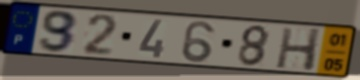2: (83, 13, 120, 58)
4: (137, 18, 167, 59)
6: (179, 19, 217, 65)
8: (236, 23, 272, 68)
9: (37, 9, 81, 55)
H: (273, 26, 324, 73)
